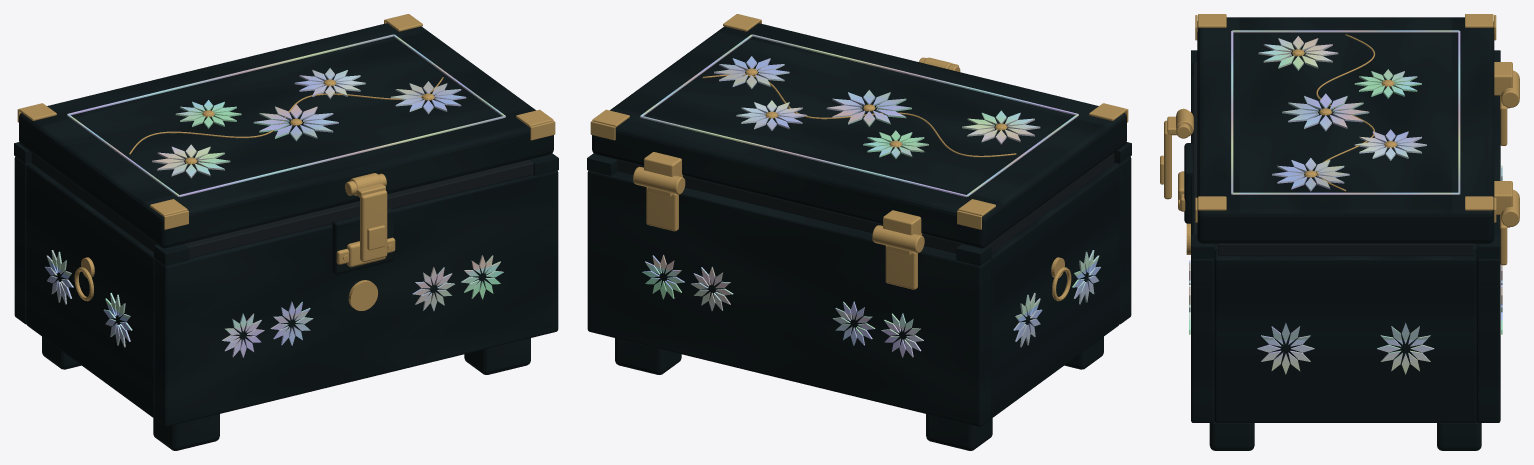
Rendered from south-korea.glb.
3 views of the same model, side by side, from view 1: azimuth 30°, elevation 25°; view 2: azimuth 150°, elevation 25°; view 3: azimuth 270°, elevation 25° (orthographic). The views are drawn at different scales.
Parts seen in each view (by area): view 1: Lid / polished slab, Lacquer / long wall, Lacquer / side wall, Seam / long, Lacquer / long wall.001, Lacquer / foot, Pearl / lid chrysanthemum 2, Lacquer / foot.002, Latch / lifting hasp, Lacquer / clasp seat, Seam / side, Pearl / lid chrysanthemum 0 (+15 smaller); view 2: Lacquer / long wall.001, Lid / polished slab, Lacquer / side wall, Seam / long.001, Lacquer / long wall, Lacquer / foot.001, Pearl / lid chrysanthemum 2, Lacquer / foot.003, Seam / side, Pearl / lid chrysanthemum 0, Pearl / lid chrysanthemum 4, Hinge / fixed mount.001 (+19 smaller); view 3: Lid / polished slab, Lacquer / side wall.001, Lacquer / long wall.001, Lacquer / long wall, Seam / side.001, Pearl / lid chrysanthemum 2, Pearl / lid chrysanthemum 0, Pearl / side flower.002, Pearl / lid chrysanthemum 4, Pearl / side flower.003, Lacquer / foot.002, Lacquer / foot.003 (+20 smaller).
Boxes of the visible parts, <box> form: Lid / polished slab: <box>19,23,553,248</box>; Lacquer / long wall: <box>154,170,558,426</box>; Lacquer / side wall: <box>26,163,154,418</box>; Seam / long: <box>184,159,533,258</box>; Lacquer / long wall.001: <box>14,156,31,324</box>; Lacquer / foot: <box>153,414,219,450</box>; Pearl / lid chrysanthemum 2: <box>253,104,338,141</box>; Lacquer / foot.002: <box>464,338,530,374</box>; Latch / lifting hasp: <box>360,190,387,261</box>; Lacquer / clasp seat: <box>332,208,393,274</box>; Seam / side: <box>31,153,157,252</box>; Pearl / lid chrysanthemum 0: <box>152,144,230,178</box>; Lacquer / long wall.001: <box>587,170,991,426</box>; Lid / polished slab: <box>592,23,1126,248</box>; Lacquer / side wall: <box>991,163,1119,418</box>; Seam / long.001: <box>617,160,961,253</box>; Lacquer / long wall: <box>1114,156,1131,324</box>; Lacquer / foot.001: <box>926,414,992,450</box>; Pearl / lid chrysanthemum 2: <box>826,90,911,126</box>; Lacquer / foot.003: <box>615,338,681,374</box>; Seam / side: <box>988,153,1114,252</box>; Pearl / lid chrysanthemum 0: <box>962,110,1040,144</box>; Pearl / lid chrysanthemum 4: <box>714,56,789,88</box>; Hinge / fixed mount.001: <box>646,187,678,231</box>; Lid / polished slab: <box>1197,17,1494,243</box>; Lacquer / side wall.001: <box>1214,251,1476,422</box>; Lacquer / long wall.001: <box>1476,95,1500,422</box>; Lacquer / long wall: <box>1191,74,1214,422</box>; Seam / side.001: <box>1218,243,1473,255</box>; Pearl / lid chrysanthemum 2: <box>1282,93,1369,131</box>; Pearl / lid chrysanthemum 0: <box>1258,36,1338,70</box>; Pearl / side flower.002: <box>1257,322,1314,374</box>; Pearl / lid chrysanthemum 4: <box>1272,158,1349,191</box>; Pearl / side flower.003: <box>1377,322,1434,374</box>; Lacquer / foot.002: <box>1209,421,1254,450</box>; Lacquer / foot.003: <box>1437,421,1481,450</box>.
Bounding box in the file's own units: 3.8 × 2.25 × 2.88.
4 materials, 2 textured.
